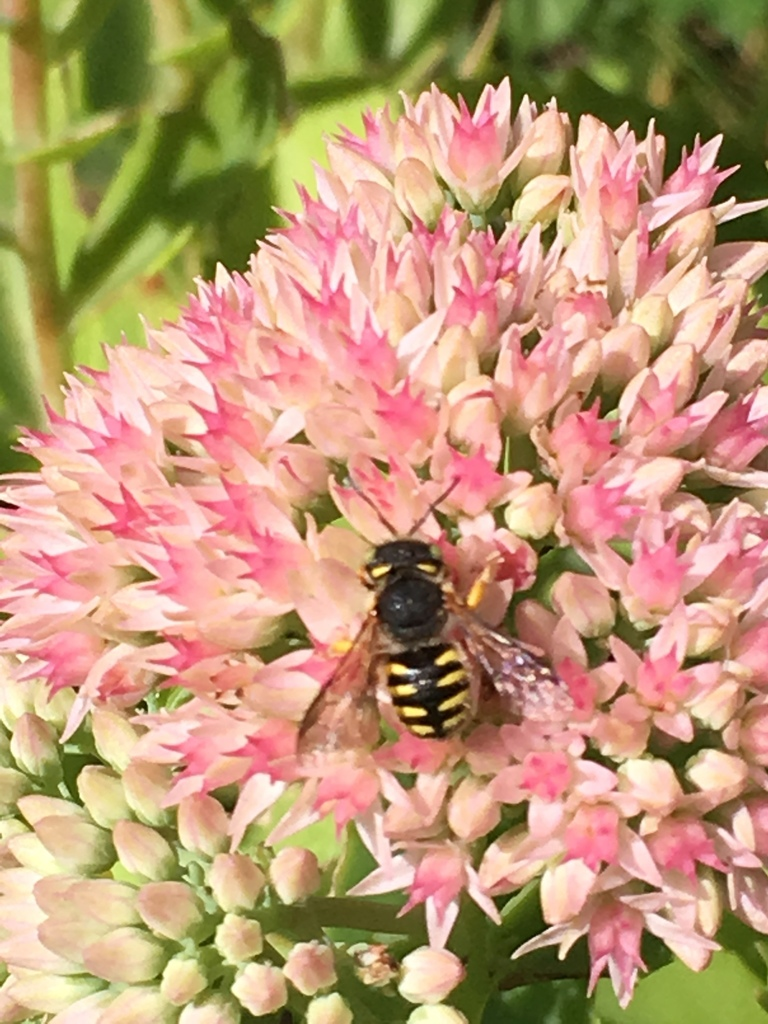not_bumblebee: (294, 466, 585, 769)
